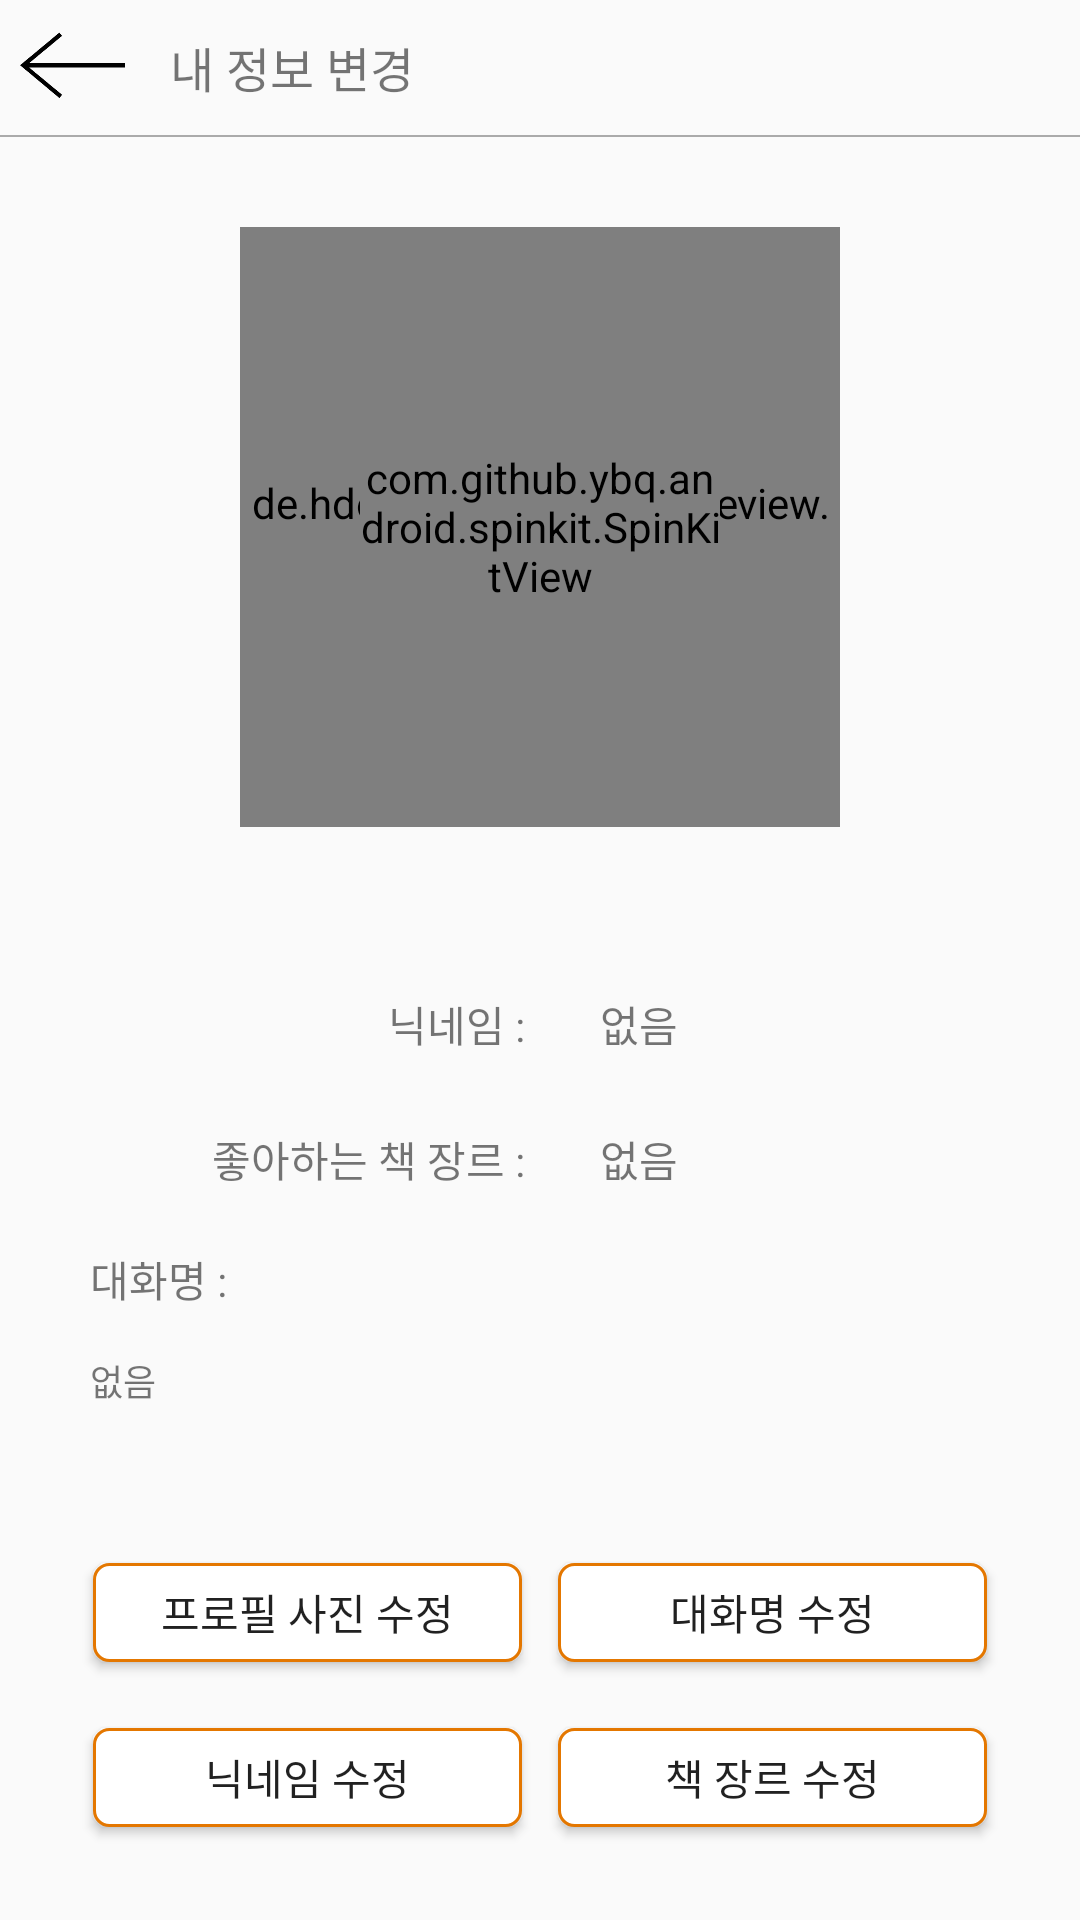

Screen size 1080 x 1920. Icon name, then its center in pixels as (x=x, y=y):
back: (x=72, y=65)
